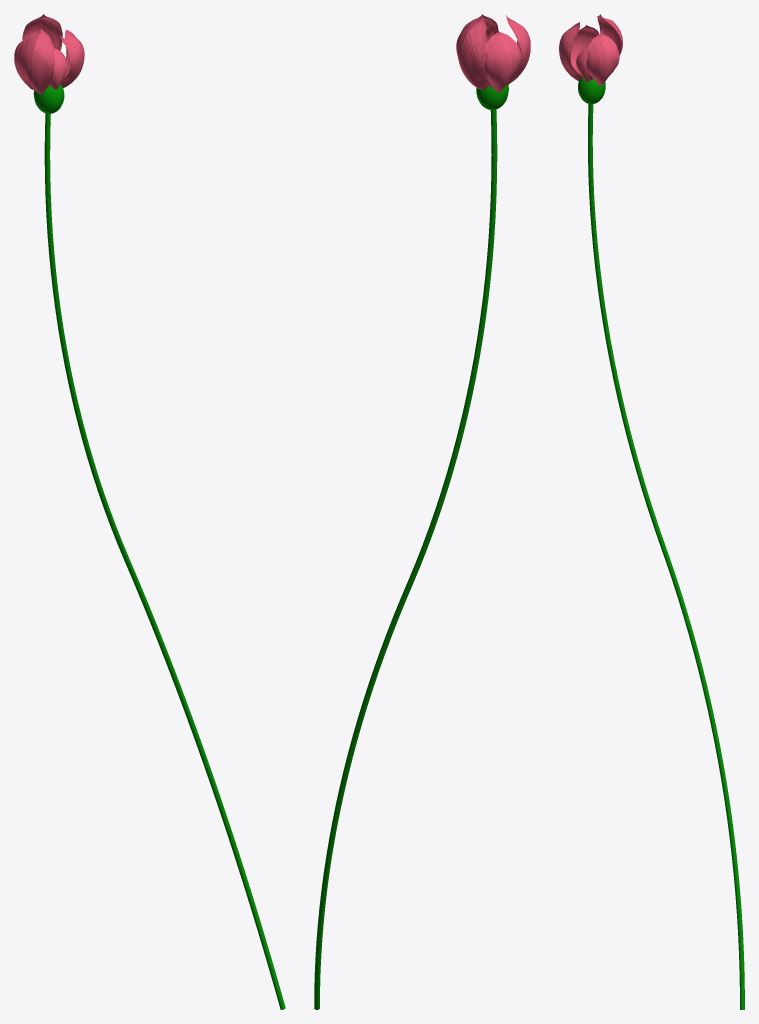
File: Lotus017.fbx
3 views of the same model, side by side, from view 1: azimuth 30°, elevation 25°; view 2: azimuth 150°, elevation 25°; view 3: azimuth 330°, elevation 25° (orthographic). The views are drawn at different scales.
Visible parts, largest first — view 1: pCylinder5, nurbsToPoly11, nurbsToPoly24, nurbsToPoly10, pSphere4; view 2: pCylinder5, nurbsToPoly10, nurbsToPoly12, nurbsToPoly11, pSphere4; view 3: pCylinder5, nurbsToPoly24, nurbsToPoly11, pSphere4, nurbsToPoly12, nurbsToPoly10.
Boxes of the visible parts, bbox=[...] form: pCylinder5: bbox=[44, 113, 285, 1009]; nurbsToPoly11: bbox=[17, 28, 54, 94]; nurbsToPoly24: bbox=[60, 29, 84, 87]; nurbsToPoly10: bbox=[22, 14, 62, 50]; pSphere4: bbox=[33, 84, 64, 113]; pCylinder5: bbox=[314, 109, 497, 1009]; nurbsToPoly10: bbox=[456, 16, 488, 89]; nurbsToPoly12: bbox=[483, 31, 521, 92]; nurbsToPoly11: bbox=[506, 15, 530, 85]; pSphere4: bbox=[476, 85, 508, 109]; pCylinder5: bbox=[588, 104, 744, 1009]; nurbsToPoly24: bbox=[586, 33, 619, 85]; nurbsToPoly11: bbox=[559, 22, 582, 81]; pSphere4: bbox=[578, 77, 605, 104]; nurbsToPoly12: bbox=[570, 25, 598, 62]; nurbsToPoly10: bbox=[597, 14, 622, 55].
Size of the model in its own units: 49.52 by 206 by 20.37.
